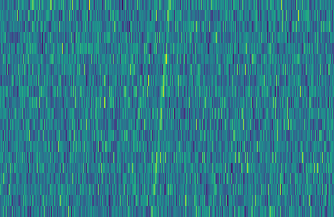signal: (147, 0, 174, 217)
